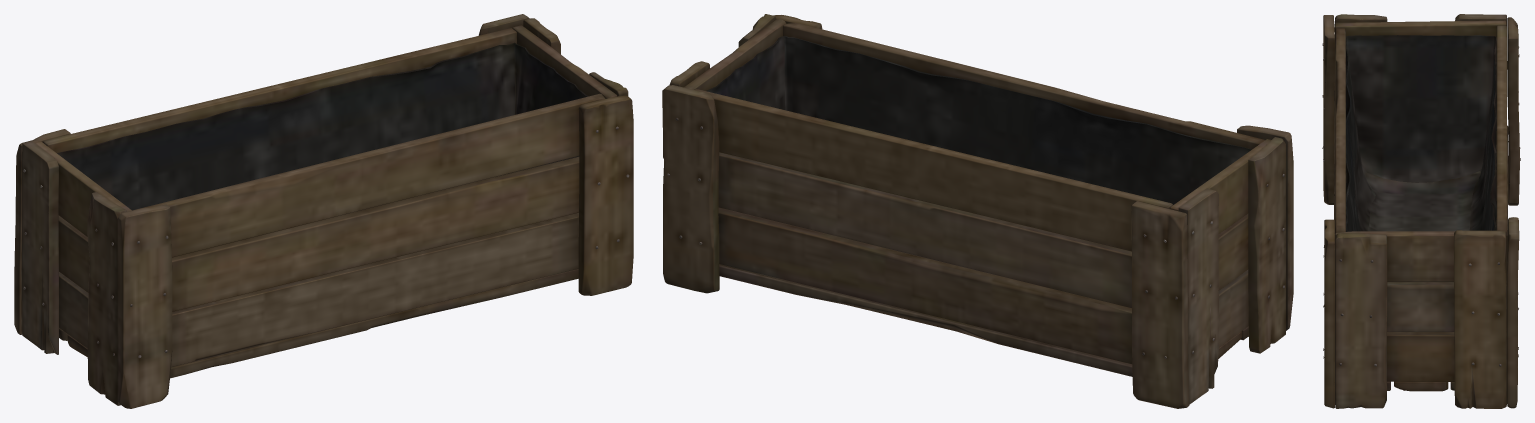
File: planter_box_02.gltf
The picture shows the model from 3 angles, left to right: view 1: azimuth 30°, elevation 25°; view 2: azimuth 150°, elevation 25°; view 3: azimuth 270°, elevation 25°; orthographic projection. The views are drawn at different scales.
Visible parts, largest first — view 1: planter_box_02; view 2: planter_box_02; view 3: planter_box_02.
Part boxes in pixels (box(x1,y1,x2,y2)): planter_box_02: box(14, 14, 633, 408); planter_box_02: box(662, 14, 1293, 408); planter_box_02: box(1322, 14, 1520, 408).
Size of the model in its own units: 1.25 by 0.4534 by 0.4672.
